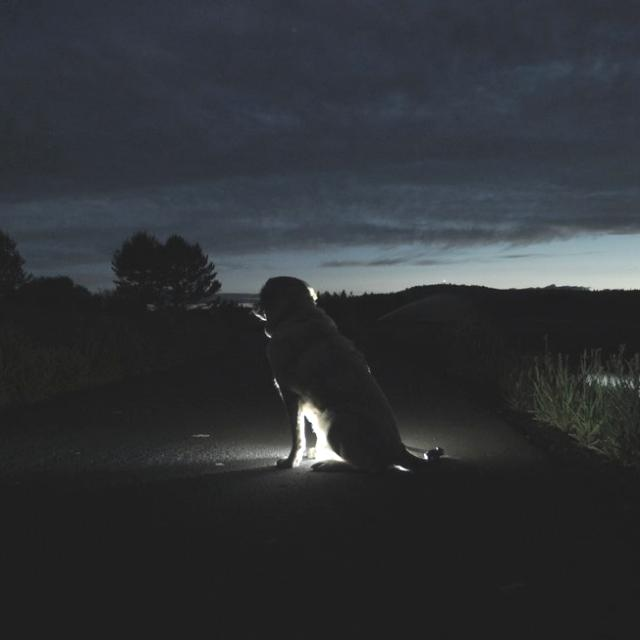Dog: (248, 316, 512, 540)
